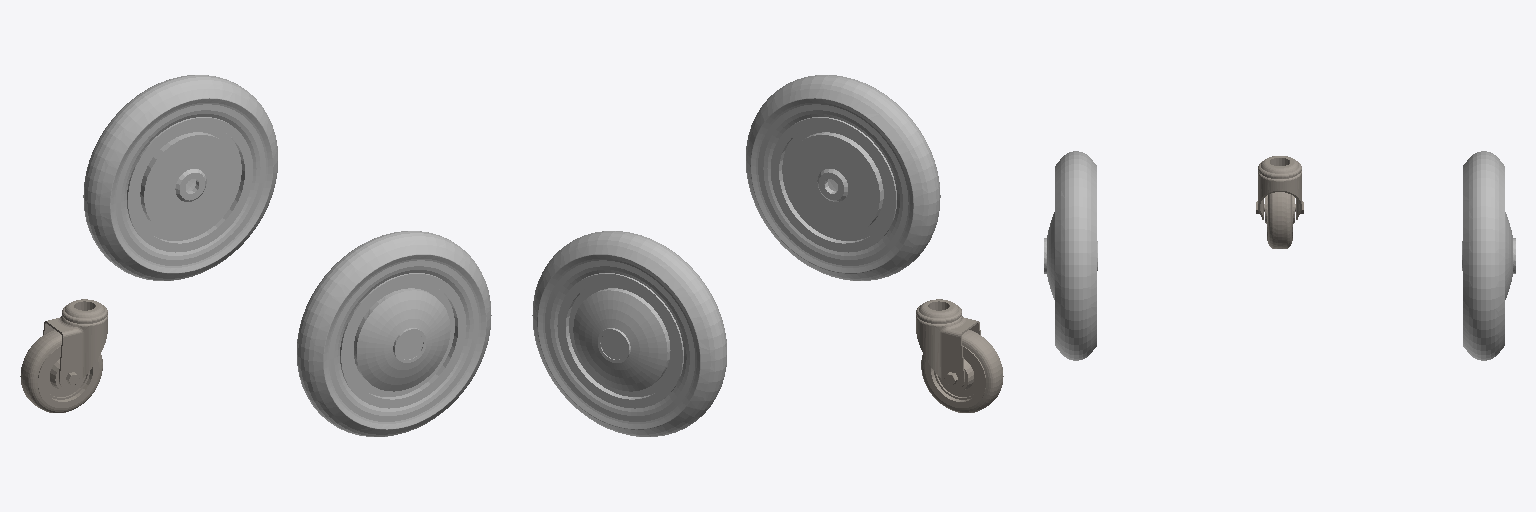
The robot description file, URDF, robot "rover":
<?xml version="1.0" encoding="utf-8"?>
<!-- This URDF was automatically created by SolidWorks to URDF Exporter! Originally created by [author] ([email redacted]) 
     Commit Version: 1.6.0-4-g7f85cfe  Build Version: 1.6.7995.38578
     For more information, please see http://wiki.ros.org/sw_urdf_exporter -->
<robot
  name="rover">
  <link
    name="base_link">
    <inertial>
      <origin
        xyz="0.0525974995543178 -0.000194464834775451 -0.0100913190853692"
        rpy="0 0 0" />
      <mass
        value="2.38375982168779" />
      <inertia
        ixx="0.0206956872468266"
        ixy="5.63024158022762E-09"
        ixz="0.000212908082281701"
        iyy="0.0144158206994705"
        iyz="-1.03954167908993E-08"
        izz="0.0347891159880286" />
    </inertial>
    <visual>
      <origin
        xyz="0 0 0"
        rpy="0 0 0" />
      <geometry>
        <mesh
          filename="package://rover/meshes/base_link.STL" />
      </geometry>
      <material
        name="">
        <color
          rgba="0.752941176470588 0.752941176470588 0.752941176470588 1" />
      </material>
    </visual>
    <collision>
      <origin
        xyz="0 0 0"
        rpy="0 0 0" />
      <geometry>
        <mesh
          filename="package://rover/meshes/base_link.STL" />
      </geometry>
    </collision>
  </link>
  <link
    name="wheel_left">
    <inertial>
      <origin
        xyz="2.4980018054066E-16 0.494569432322382 2.04003480774873E-15"
        rpy="0 0 0" />
      <mass
        value="0.822414833099408" />
      <inertia
        ixx="0.00292595796569318"
        ixy="-4.70537025297137E-19"
        ixz="-1.54115754149799E-33"
        iyy="0.00542762830860089"
        iyz="9.52641887370321E-18"
        izz="0.00292595796569318" />
    </inertial>
    <visual>
      <origin
        xyz="0 0 0"
        rpy="0 0 0" />
      <geometry>
        <mesh
          filename="package://rover/meshes/wheel_left.STL" />
      </geometry>
      <material
        name="">
        <color
          rgba="0.752941176470588 0.752941176470588 0.752941176470588 1" />
      </material>
    </visual>
    <collision>
      <origin
        xyz="0 0 0"
        rpy="0 0 0" />
      <geometry>
        <mesh
          filename="package://rover/meshes/wheel_left.STL" />
      </geometry>
    </collision>
  </link>
  <joint
    name="j_wheel_left"
    type="continuous">
    <origin
      xyz="0.125 -0.247 -0.0299999999999999"
      rpy="0 0 0" />
    <parent
      link="base_link" />
    <child
      link="wheel_left" />
    <axis
      xyz="0 -1 0" />
  </joint>
  <link
    name="wheel_right">
    <inertial>
      <origin
        xyz="-3.46944695195361E-16 -0.494569432322382 -1.56125112837913E-16"
        rpy="0 0 0" />
      <mass
        value="0.822414833099408" />
      <inertia
        ixx="0.00292595796569318"
        ixy="4.75322584588116E-19"
        ixz="-1.93796700653966E-33"
        iyy="0.00542762830860089"
        iyz="-9.54453148980118E-18"
        izz="0.00292595796569318" />
    </inertial>
    <visual>
      <origin
        xyz="0 0 0"
        rpy="0 0 0" />
      <geometry>
        <mesh
          filename="package://rover/meshes/wheel_right.STL" />
      </geometry>
      <material
        name="">
        <color
          rgba="0.752941176470588 0.752941176470588 0.752941176470588 1" />
      </material>
    </visual>
    <collision>
      <origin
        xyz="0 0 0"
        rpy="0 0 0" />
      <geometry>
        <mesh
          filename="package://rover/meshes/wheel_right.STL" />
      </geometry>
    </collision>
  </link>
  <joint
    name="j_wheel_right"
    type="continuous">
    <origin
      xyz="0.125 0.247 -0.0299999999999979"
      rpy="0 0 0" />
    <parent
      link="base_link" />
    <child
      link="wheel_right" />
    <axis
      xyz="0 -1 0" />
  </joint>
  <link
    name="caster_link">
    <inertial>
      <origin
        xyz="-0.0104577729094667 -1.70972644986437E-06 -0.0348997239505959"
        rpy="0 0 0" />
      <mass
        value="0.328375253608877" />
      <inertia
        ixx="0.000340045444422583"
        ixy="9.1850194938355E-09"
        ixz="-9.80776230870345E-05"
        iyy="0.000352874912673895"
        iyz="-6.46363627390862E-09"
        izz="0.000225098721857176" />
    </inertial>
    <visual>
      <origin
        xyz="0 0 0"
        rpy="0 0 0" />
      <geometry>
        <mesh
          filename="package://rover/meshes/caster_link.STL" />
      </geometry>
      <material
        name="">
        <color
          rgba="0.647058823529412 0.619607843137255 0.588235294117647 1" />
      </material>
    </visual>
    <collision>
      <origin
        xyz="0 0 0"
        rpy="0 0 0" />
      <geometry>
        <mesh
          filename="package://rover/meshes/caster_link.STL" />
      </geometry>
    </collision>
  </link>
  <joint
    name="j_caster_link"
    type="continuous">
    <origin
      xyz="-0.14610625 0 -0.026825"
      rpy="0 0 -0.000559241919372657" />
    <parent
      link="base_link" />
    <child
      link="caster_link" />
    <axis
      xyz="0 0 1" />
  </joint>
  <link
    name="wheel_rear">
    <inertial>
      <origin
        xyz="2.77555756156289E-17 3.00866102864727E-18 0"
        rpy="0 0 0" />
      <mass
        value="0.244317433446432" />
      <inertia
        ixx="0.000169301711020207"
        ixy="5.11528490802792E-21"
        ixz="6.11428746179974E-21"
        iyy="0.000304051252450228"
        iyz="-1.77398397427055E-21"
        izz="0.000169301711020207" />
    </inertial>
    <visual>
      <origin
        xyz="0 0 0"
        rpy="0 0 0" />
      <geometry>
        <mesh
          filename="package://rover/meshes/wheel_rear.STL" />
      </geometry>
      <material
        name="">
        <color
          rgba="0.647058823529412 0.619607843137255 0.588235294117647 1" />
      </material>
    </visual>
    <collision>
      <origin
        xyz="0 0 0"
        rpy="0 0 0" />
      <geometry>
        <mesh
          filename="package://rover/meshes/wheel_rear.STL" />
      </geometry>
    </collision>
  </link>
  <joint
    name="j_wheel_rear"
    type="continuous">
    <origin
      xyz="-0.0309499 0 -0.079375"
      rpy="0 0 0" />
    <parent
      link="caster_link" />
    <child
      link="wheel_rear" />
    <axis
      xyz="0 -1 0" />
  </joint>
</robot>

--- What the picture shows (computed from the rendered views, not written in the file) ---
3 views of the same robot in one strip: view 1: azimuth 30°, elevation 25°; view 2: azimuth 150°, elevation 25°; view 3: azimuth 270°, elevation 25° (orthographic).
Model rover with 5 links and 4 joints (4 continuous), rooted at base_link, posed all joints at 0.
Links seen in each view (by area): view 1: wheel_left, wheel_right, wheel_rear, caster_link; view 2: wheel_right, wheel_left, wheel_rear, caster_link; view 3: wheel_left, wheel_right, caster_link, wheel_rear.
Boxes of the visible links, x1,y1,x2,y2 form: wheel_left: (83,75,277,280); wheel_right: (297,231,491,436); wheel_rear: (20,330,102,412); caster_link: (43,299,107,389); wheel_right: (746,75,940,280); wheel_left: (532,231,726,436); wheel_rear: (921,330,1003,412); caster_link: (916,299,980,389); wheel_left: (1462,151,1515,360); wheel_right: (1044,151,1097,360); caster_link: (1256,156,1303,219); wheel_rear: (1265,192,1294,248).
Size in the robot's own frame: 0.4796 by 0.5707 by 0.2534 metres.
Meshes: 5 distinct files referenced, 4 mesh visuals loaded (4 binary STL); not drawn: 1 (reference not matched to a file when rendering).